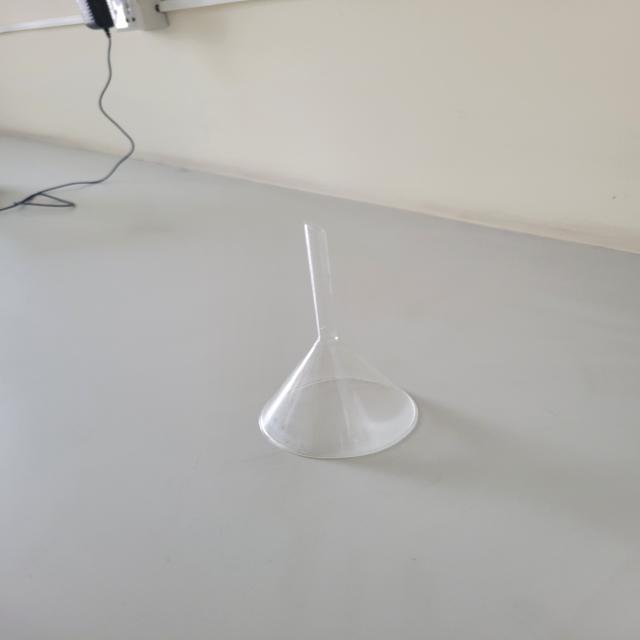Funnel: (208, 192, 492, 498)
